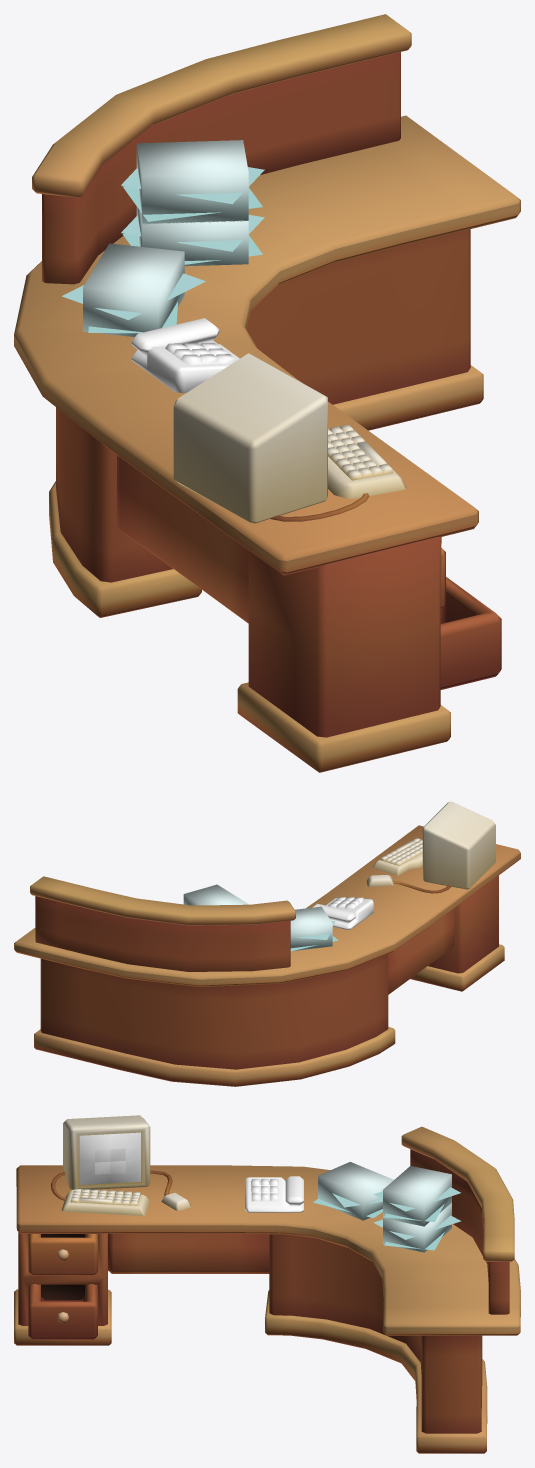
Rendered from ReceptieBureau_M.fbx.
3 renders of one model, top to bottom at view 1: azimuth 30°, elevation 25°; view 2: azimuth 150°, elevation 25°; view 3: azimuth 270°, elevation 25°, orthographic. The views are drawn at different scales.
Parts seen in each view (by area): view 1: Cube.013, Computer.001, Paper.003, Paper.001, Drawer2.001, Phone.001, Paper.002, Keyboard.001; view 2: Cube.013, Computer.001, Paper.001, Phone.001, Keyboard.001, Paper.003, Mouse.001; view 3: Cube.013, Computer.001, Paper.003, Drawer2.001, Paper.001, Drawer1.002, Keyboard.001, Phone.001, Paper.002, Mouse.001.
Part boxes in pixels (x1=…): Cube.013: x1=14, y1=14, x2=520, y2=772; Computer.001: x1=173, y1=353, x2=327, y2=523; Paper.003: x1=121, y1=140, x2=264, y2=224; Paper.001: x1=62, y1=243, x2=205, y2=336; Drawer2.001: x1=440, y1=577, x2=501, y2=689; Phone.001: x1=131, y1=318, x2=239, y2=393; Paper.002: x1=121, y1=206, x2=264, y2=266; Keyboard.001: x1=270, y1=424, x2=406, y2=521; Cube.013: x1=14, y1=825, x2=520, y2=1086; Computer.001: x1=422, y1=801, x2=495, y2=890; Paper.001: x1=290, y1=906, x2=338, y2=951; Phone.001: x1=312, y1=897, x2=373, y2=929; Keyboard.001: x1=373, y1=838, x2=422, y2=875; Paper.003: x1=183, y1=884, x2=248, y2=905; Mouse.001: x1=366, y1=875, x2=451, y2=893; Cube.013: x1=14, y1=1126, x2=520, y2=1453; Computer.001: x1=63, y1=1115, x2=150, y2=1189; Paper.003: x1=373, y1=1166, x2=460, y2=1226; Drawer2.001: x1=28, y1=1284, x2=97, y2=1339; Paper.001: x1=313, y1=1162, x2=393, y2=1220; Drawer1.002: x1=28, y1=1234, x2=97, y2=1275; Keyboard.001: x1=51, y1=1172, x2=149, y2=1215; Phone.001: x1=245, y1=1176, x2=303, y2=1212; Paper.002: x1=373, y1=1203, x2=460, y2=1252; Mouse.001: x1=150, y1=1170, x2=190, y2=1210.
Bounding box in the file's own units: 165 × 286 × 380.
